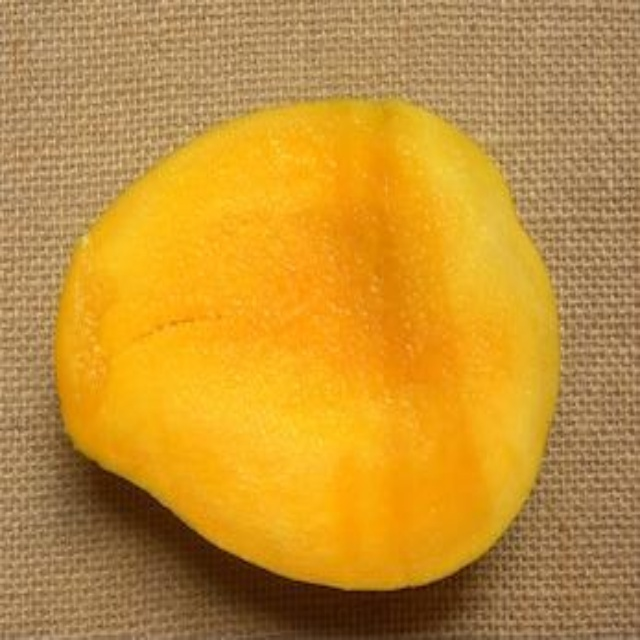mango: (60, 99, 558, 593)
